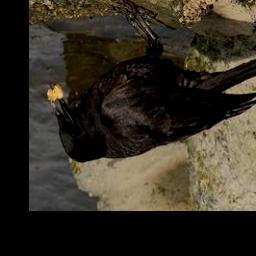Crow: (47, 0, 256, 165)
